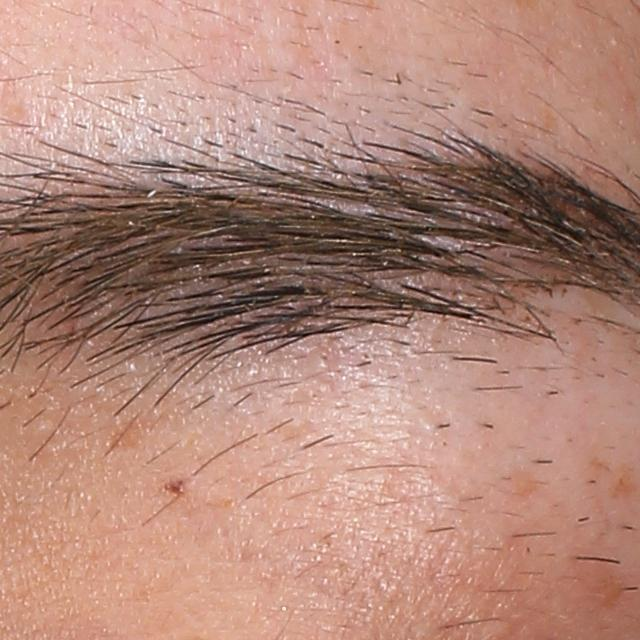melasma: (613, 467, 638, 498)
nevus: (161, 478, 186, 493)
